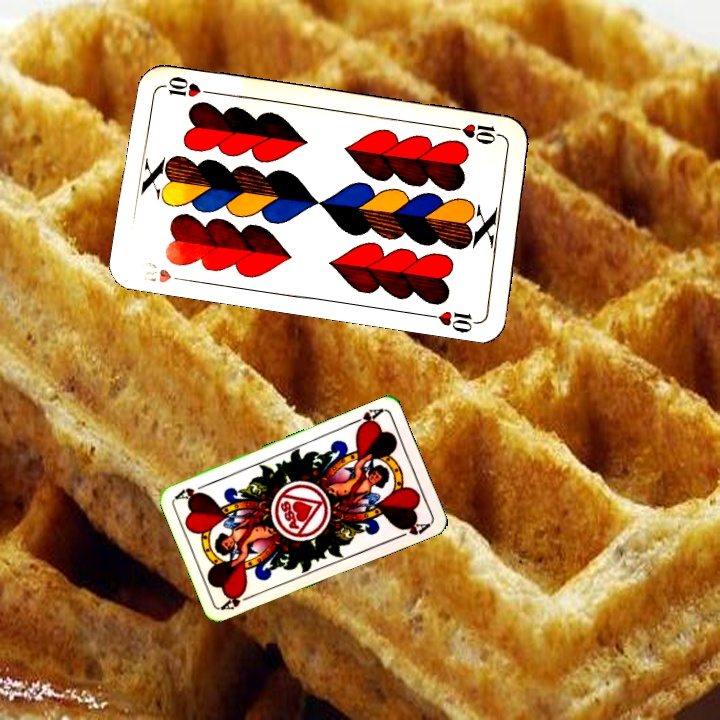H10: (448, 119, 507, 147), (140, 257, 192, 286)
HA: (347, 404, 385, 432), (218, 587, 257, 613)
